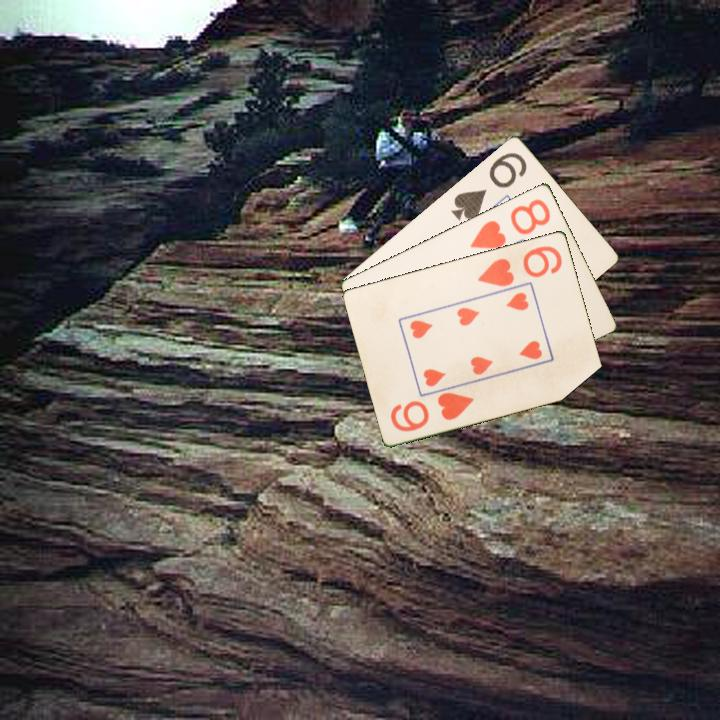6h: (474, 242, 565, 289), (387, 388, 477, 434)
6s: (448, 148, 530, 223)
8h: (466, 195, 554, 251)
